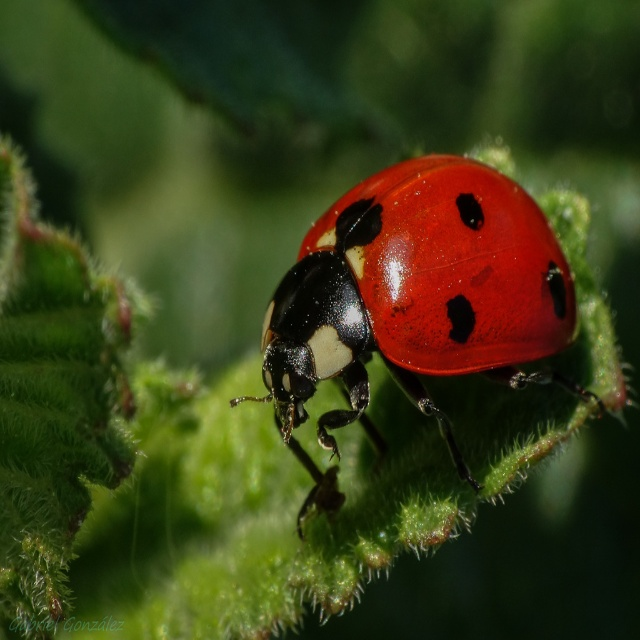Ladybug: (226, 147, 582, 557)
